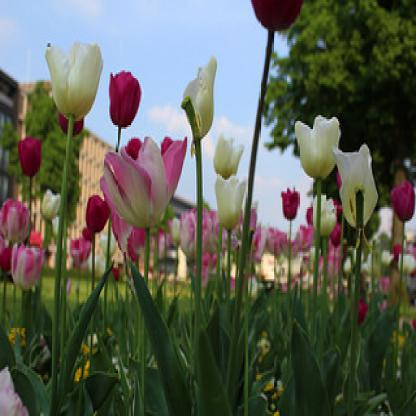TULIP: (9, 13, 410, 321)
